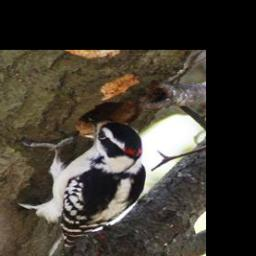Woodpecker: (18, 115, 146, 256)
